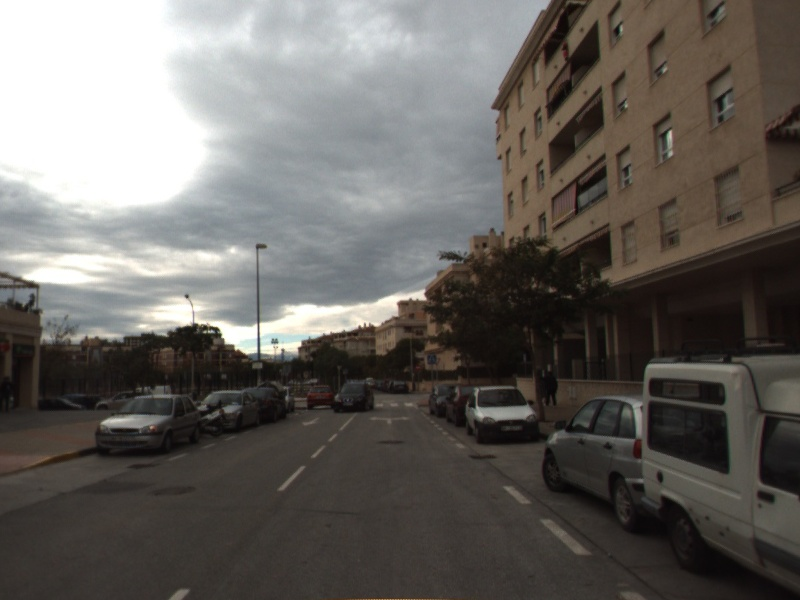LEFT_RIGHT: (367, 414, 413, 426)
